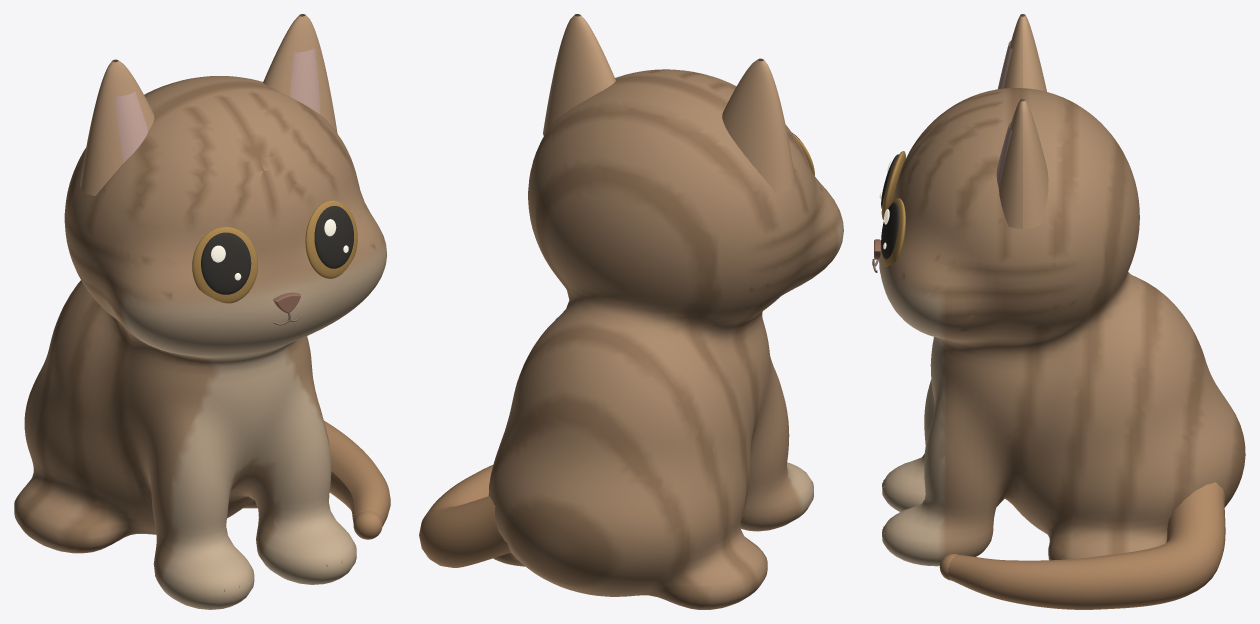
Rendered from q-tabby.glb.
3 renders of one model, left to right at view 1: azimuth 30°, elevation 25°; view 2: azimuth 150°, elevation 25°; view 3: azimuth 270°, elevation 25°, orthographic. The views are drawn at different scales.
Parts seen in each view (by area): view 1: Tabby continuous body, Q tabby review, cat-eye-left, cat-tail, cat-eye-right, cat-tail-tip; view 2: Tabby continuous body, Q tabby review, cat-tail; view 3: Tabby continuous body, cat-tail, Q tabby review, cat-eye-right, cat-eye-left.
Part boxes in pixels (left/top/right/bottom): Tabby continuous body: left=14, top=76, right=386, bottom=609; Q tabby review: left=80, top=14, right=342, bottom=591; cat-eye-left: left=192, top=227, right=257, bottom=303; cat-tail: left=324, top=420, right=390, bottom=526; cat-eye-right: left=305, top=200, right=357, bottom=278; cat-tail-tip: left=353, top=511, right=382, bottom=539; Tabby continuous body: left=488, top=69, right=843, bottom=609; Q tabby review: left=543, top=14, right=795, bottom=192; cat-tail: left=419, top=465, right=510, bottom=567; Tabby continuous body: left=879, top=88, right=1245, bottom=566; cat-tail: left=948, top=482, right=1225, bottom=609; Q tabby review: left=872, top=14, right=1048, bottom=534; cat-eye-right: left=881, top=198, right=905, bottom=266; cat-eye-left: left=879, top=151, right=905, bottom=219.
Bounding box in the file's own units: 0.7642 × 1.18 × 0.8296.
